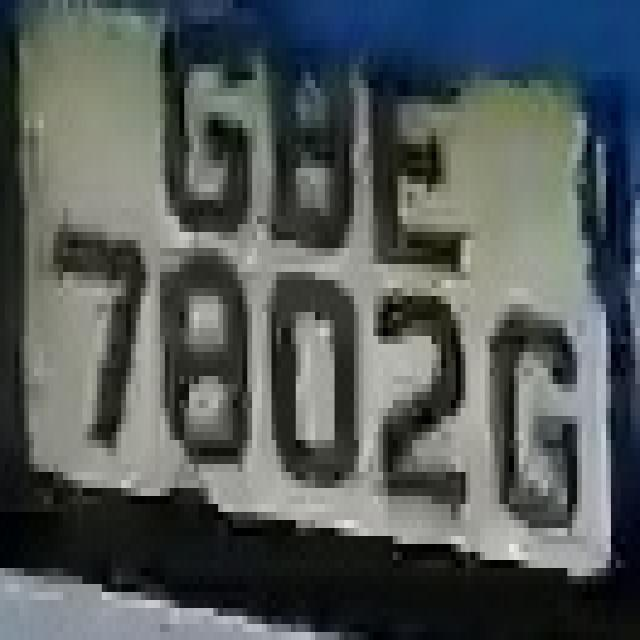0: (262, 248, 368, 504)
2: (368, 264, 480, 512)
7: (29, 192, 155, 504)
8: (141, 224, 252, 504)
B: (257, 24, 359, 264)
E: (359, 32, 465, 264)
G: (475, 288, 606, 512), (155, 8, 267, 240)
